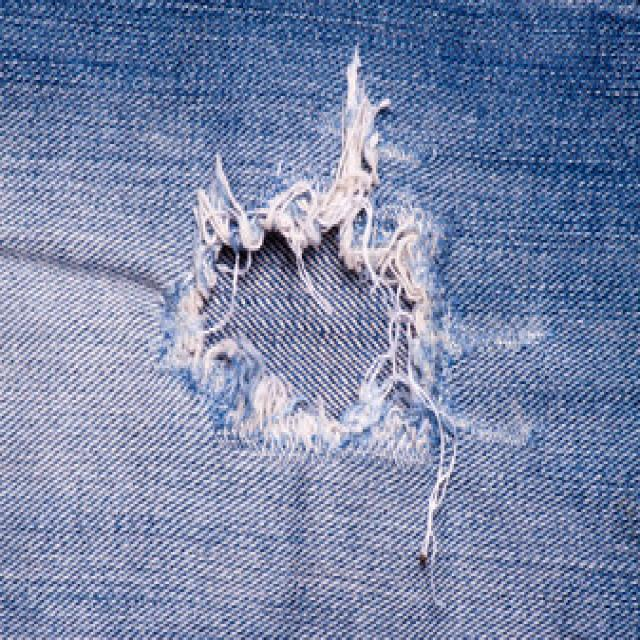Hole: (162, 49, 459, 568)
